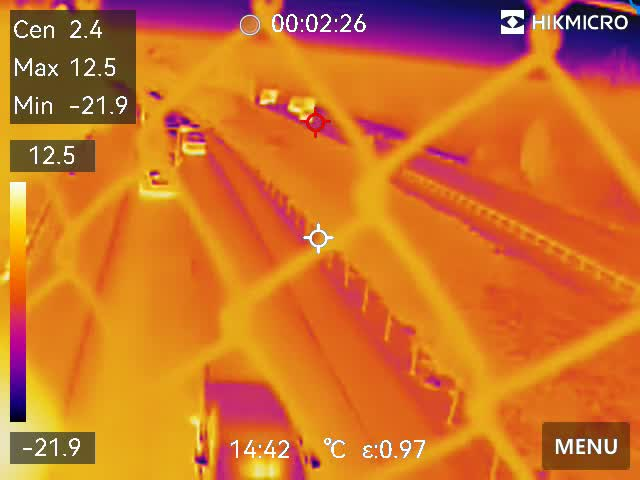heavyTruck: (287, 95, 314, 116), (258, 86, 279, 104)
vehicle: (187, 368, 308, 480), (175, 124, 212, 158)
